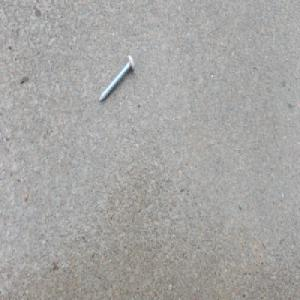Nail: (97, 53, 135, 105)
